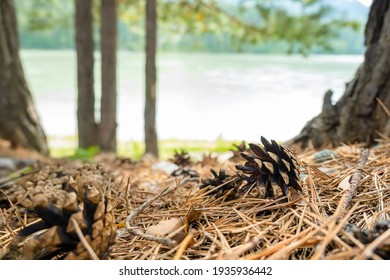Pc: (231, 132, 302, 201)
